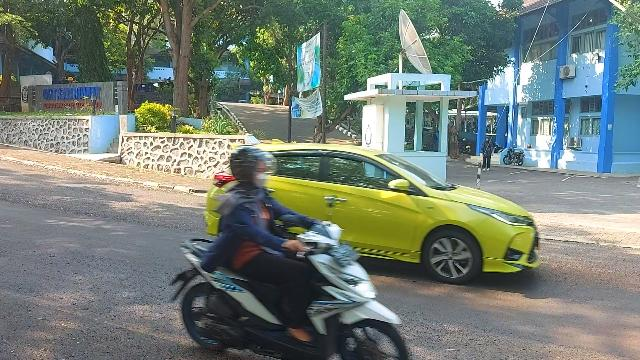helm: (231, 148, 279, 188)
motor: (171, 199, 410, 360), (171, 57, 293, 94)
